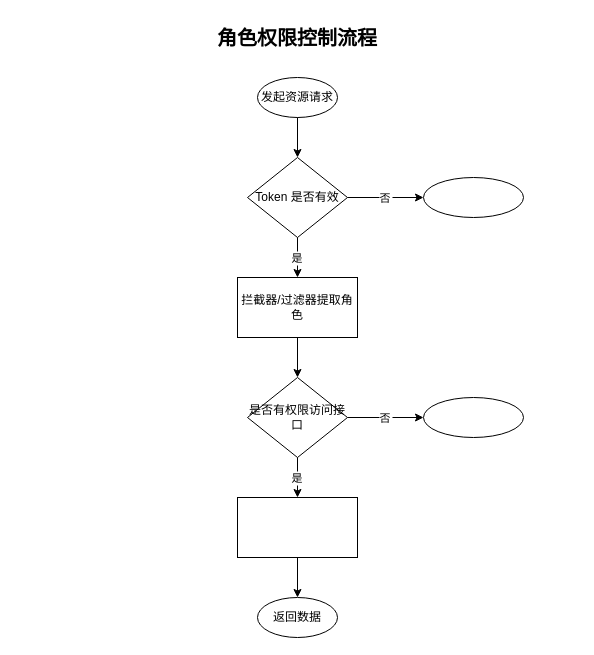
Some shapes in this 594 by 655 pixel diagram are drawn without their labels. The shapes that lost their labels are listed below. From the top down, each one's centre as x and y in pixels, then its label:
At pixel 473 197: "401 Unauthorized".
At pixel 473 417: "403 Forbidden".
At pixel 297 527: "执行业务逻辑".
